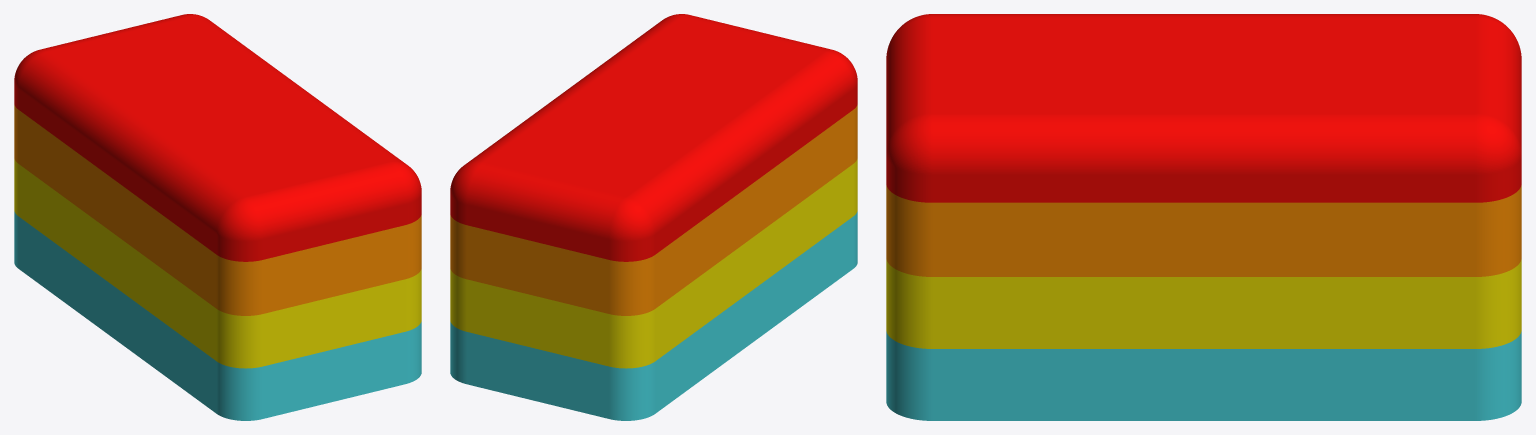
File: cake2.fbx
3 views of the same model, side by side, from view 1: azimuth 30°, elevation 25°; view 2: azimuth 150°, elevation 25°; view 3: azimuth 270°, elevation 25° (orthographic). The views are drawn at different scales.
Visible parts, largest first — view 1: Cube.173, Cube.174; view 2: Cube.174, Cube.173; view 3: Cube.174, Cube.173.
Boxes of the visible parts, box(x1,y1,x2,y2) form: Cube.173: box(117, 88, 421, 420); Cube.174: box(14, 14, 306, 340); Cube.174: box(450, 88, 754, 420); Cube.173: box(565, 14, 857, 340); Cube.174: box(1204, 14, 1521, 420); Cube.173: box(886, 14, 1203, 420).
Bounding box in the file's own units: 376 × 376 × 752.
